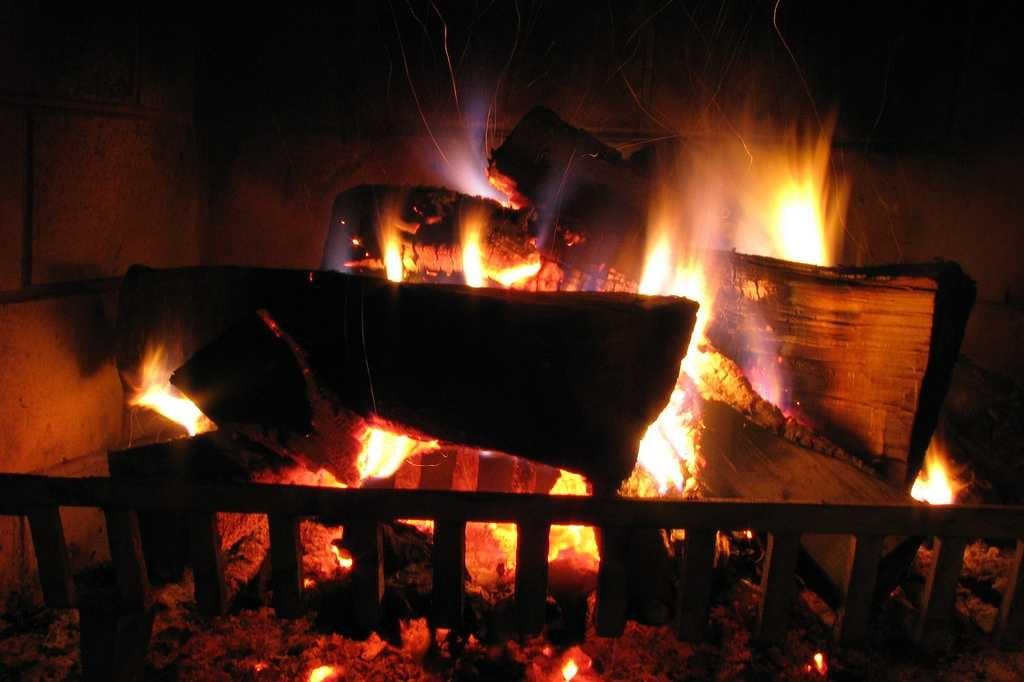fire: (675, 113, 838, 248), (647, 392, 710, 482), (438, 108, 493, 185), (137, 358, 187, 432), (357, 427, 417, 477)
